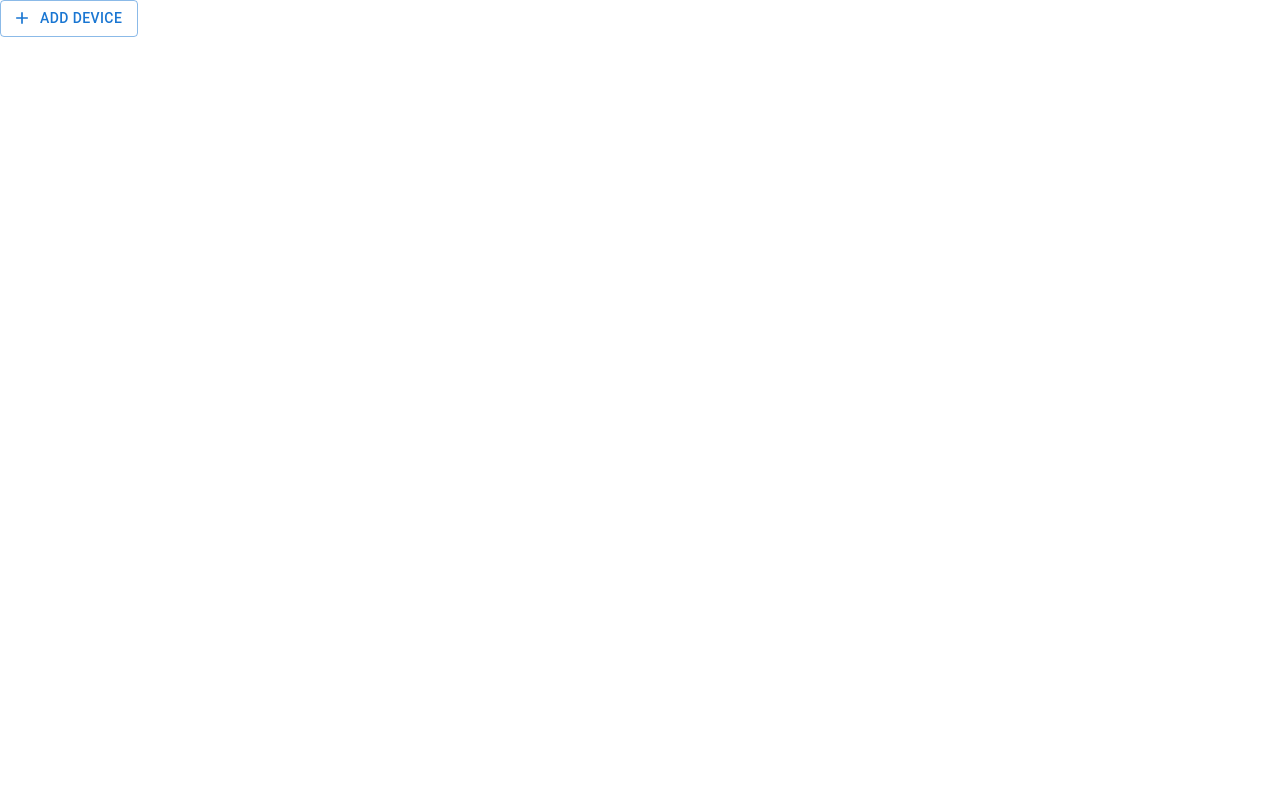
Test: AddDeviceButton › says so when every device is already on Home
The image size is (1280, 800).
Click the button "Add device" at (69, 18), box [0,0,138,36]
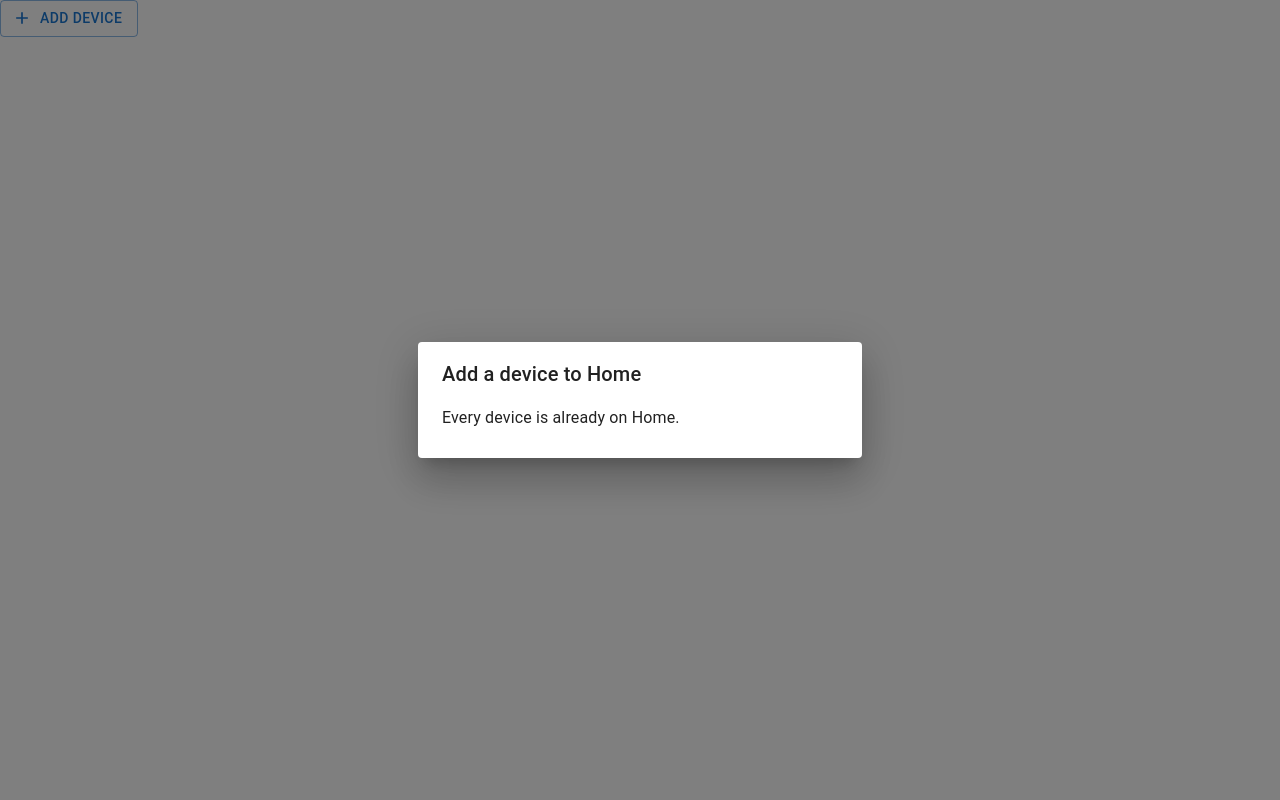
Expected: the text "Every device is already on Home." is shown, [442,408,680,427]
